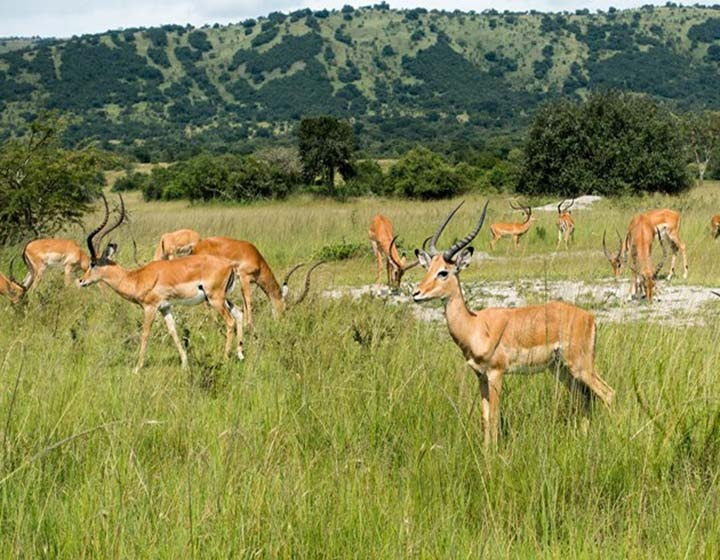impala: (406, 195, 632, 458), (74, 189, 253, 380), (183, 233, 329, 316), (16, 221, 124, 300), (596, 204, 699, 282), (362, 204, 435, 295), (620, 211, 675, 310), (484, 198, 537, 255), (551, 196, 582, 255)
